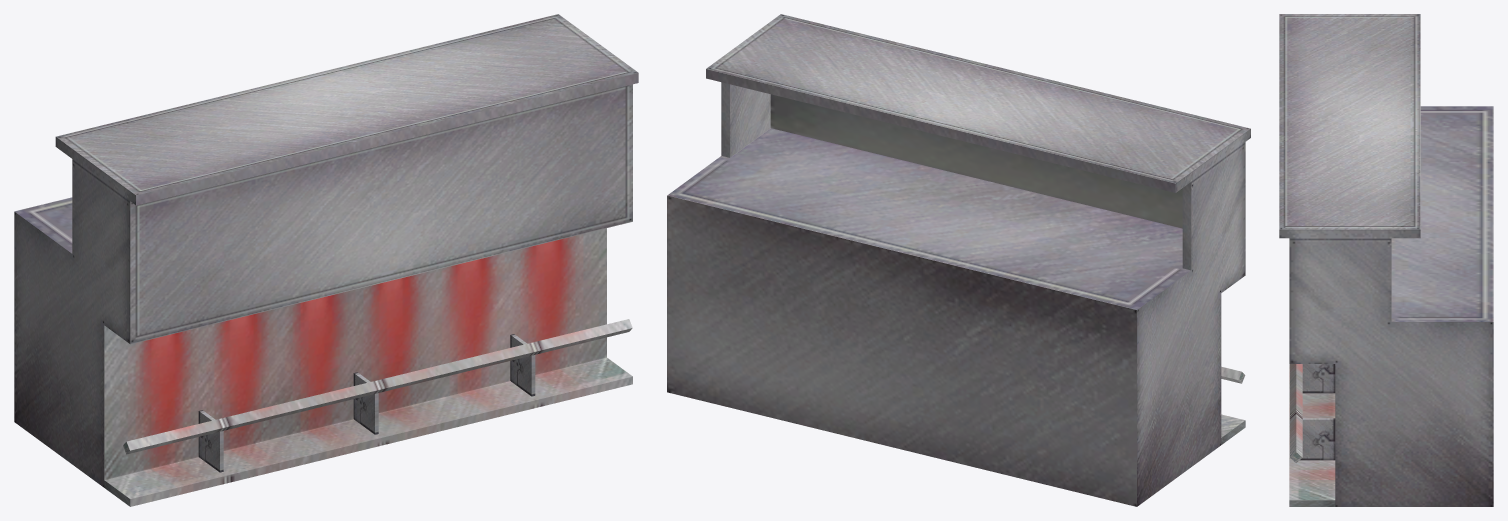
Rendered from brushed_metal_bar_counter.fbx.
3 renders of one model, left to right at view 1: azimuth 30°, elevation 25°; view 2: azimuth 150°, elevation 25°; view 3: azimuth 270°, elevation 25°, orthographic. The views are drawn at different scales.
Visible parts, largest first — view 1: mesh_0, mesh_1; view 2: mesh_0, mesh_1; view 3: mesh_0, mesh_1.
Boxes of the visible parts, x1,y1,x2,y2 form: mesh_0: (14, 14, 638, 487); mesh_1: (104, 228, 632, 506); mesh_0: (667, 14, 1250, 506); mesh_1: (1221, 366, 1245, 444); mesh_0: (1279, 14, 1493, 506); mesh_1: (1289, 364, 1335, 506).
Bounding box in the file's own units: 200 × 120 × 83.93.
2 materials, 2 textured.
